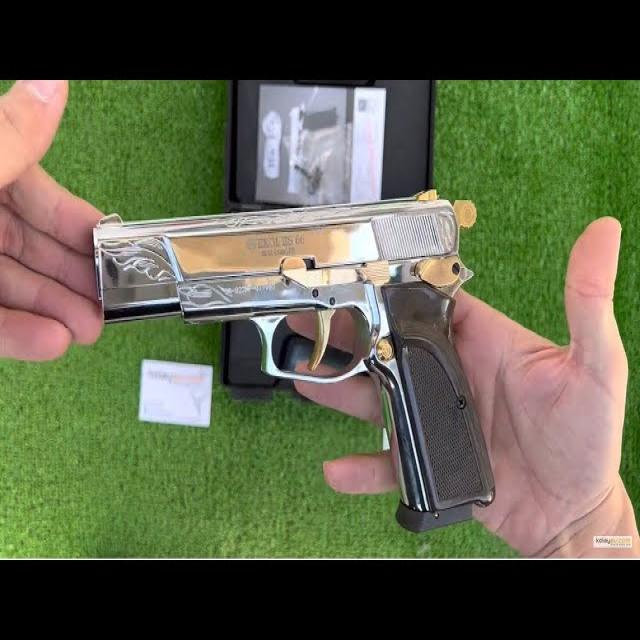pistol: (91, 185, 499, 518)
